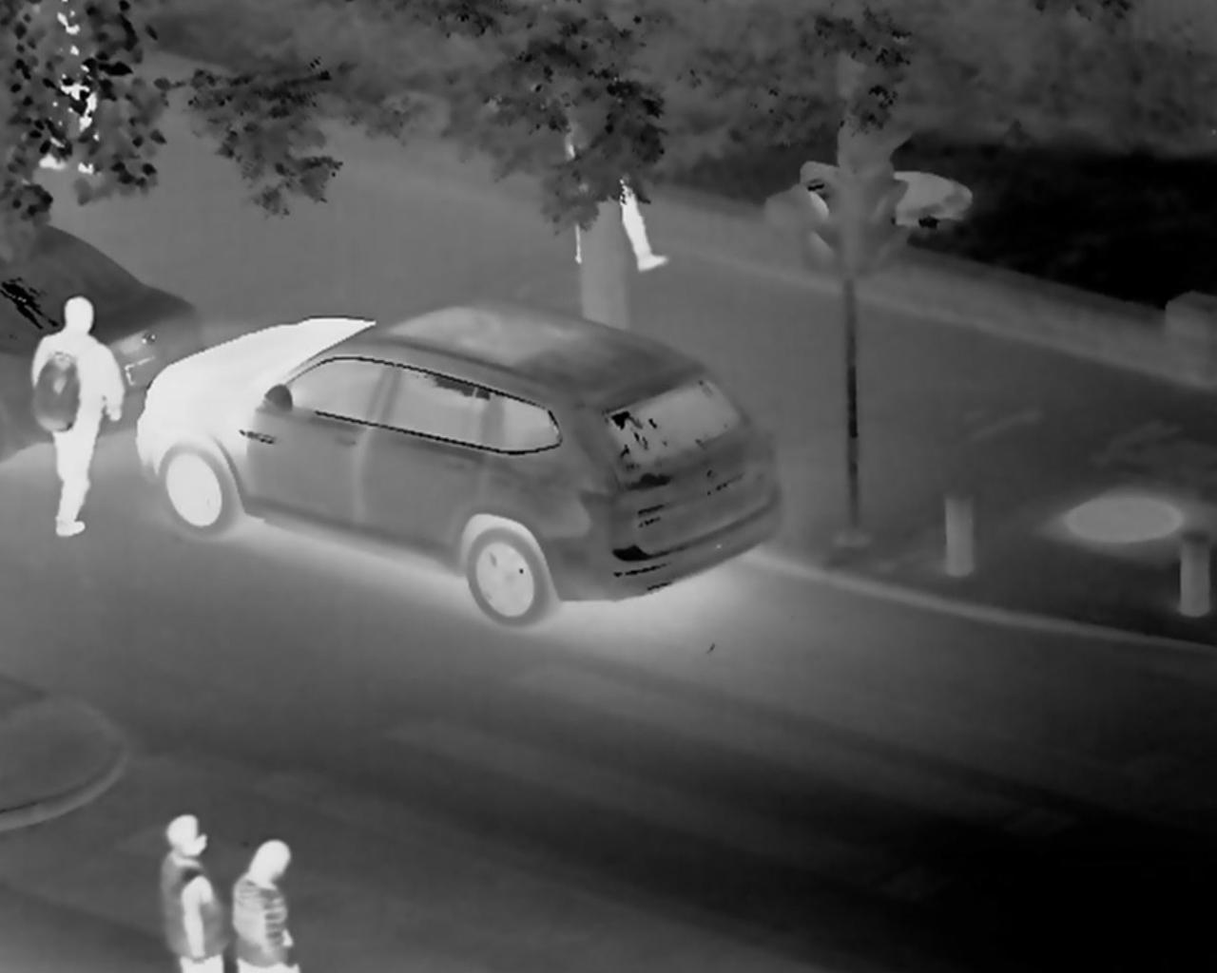person: (47, 290, 126, 543), (150, 802, 217, 973), (233, 834, 289, 973)
